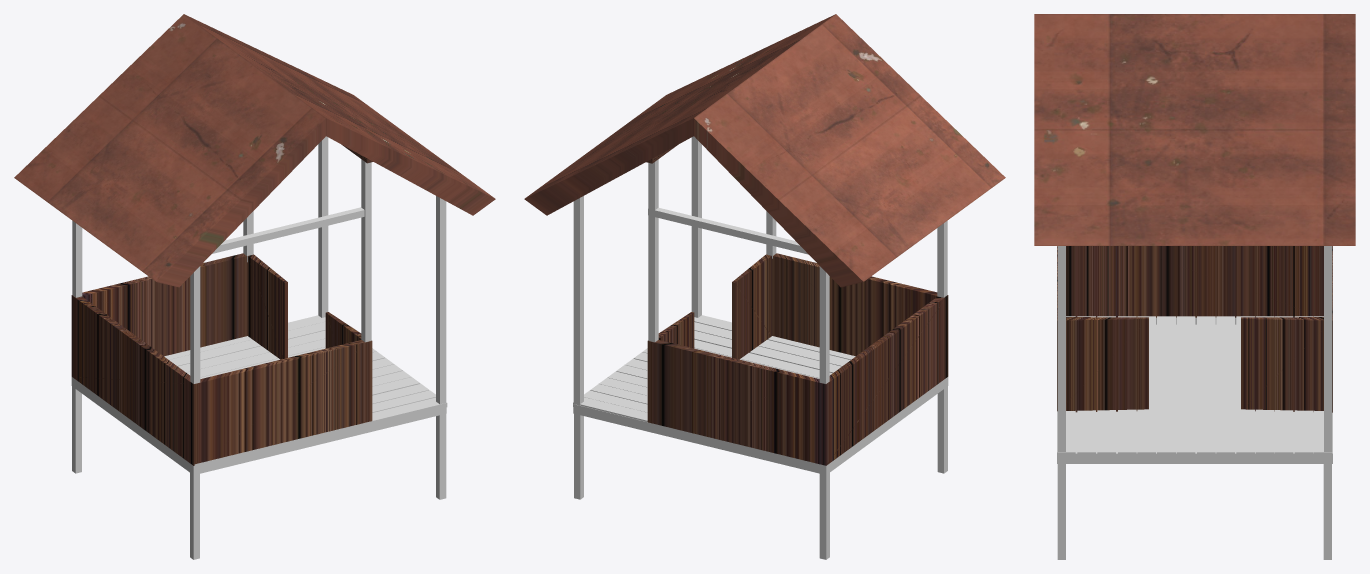
The model's file is PosFix.fbx.
3 views of the same model, side by side, from view 1: azimuth 30°, elevation 25°; view 2: azimuth 150°, elevation 25°; view 3: azimuth 270°, elevation 25° (orthographic). The views are drawn at different scales.
Visible parts, largest first — view 1: Cube.011, Cube.005, Cube, Cube.016, Cube.009, Cube.015, Cube.031, Cube.012, Cube.008, Cube.018, Cube.020, Cube.019 (+6 smaller); view 2: Cube.011, Cube.005, Cube, Cube.015, Cube.006, Cube.016, Cube.010, Cube.007, Cube.028, Cube.029, Cube.027, Cube.004 (+5 smaller); view 3: Cube.011, Cube.005, Cube, Cube.024, Cube.022, Cube.023, Cube.025, Cube.015, Cube.016, Cube.026, Cube.021, Cube.020 (+9 smaller).
Boxes of the visible parts, x1=… form: Cube.011: x1=14, y1=14, x2=495, y2=287; Cube.005: x1=71, y1=253, x2=372, y2=465; Cube: x1=71, y1=377, x2=446, y2=475; Cube.016: x1=436, y1=196, x2=446, y2=404; Cube.009: x1=361, y1=159, x2=371, y2=342; Cube.015: x1=318, y1=136, x2=328, y2=317; Cube.031: x1=194, y1=397, x2=447, y2=468; Cube.012: x1=212, y1=207, x2=364, y2=253; Cube.008: x1=190, y1=266, x2=200, y2=383; Cube.018: x1=169, y1=322, x2=325, y2=366; Cube.020: x1=186, y1=338, x2=325, y2=377; Cube.019: x1=178, y1=330, x2=325, y2=372; Cube.011: x1=524, y1=14, x2=1005, y2=287; Cube.005: x1=647, y1=253, x2=948, y2=465; Cube: x1=573, y1=377, x2=948, y2=474; Cube.015: x1=573, y1=196, x2=583, y2=405; Cube.006: x1=648, y1=159, x2=658, y2=342; Cube.016: x1=691, y1=136, x2=701, y2=317; Cube.010: x1=648, y1=207, x2=808, y2=254; Cube.007: x1=819, y1=266, x2=829, y2=383; Cube.028: x1=694, y1=330, x2=841, y2=373; Cube.029: x1=694, y1=322, x2=850, y2=366; Cube.027: x1=694, y1=339, x2=832, y2=378; Cube.004: x1=819, y1=473, x2=829, y2=559; Cube.011: x1=1034, y1=14, x2=1355, y2=245; Cube.005: x1=1057, y1=246, x2=1332, y2=412; Cube: x1=1057, y1=317, x2=1332, y2=463; Cube.024: x1=1176, y1=316, x2=1195, y2=457; Cube.022: x1=1216, y1=316, x2=1234, y2=457; Cube.023: x1=1197, y1=316, x2=1215, y2=457; Cube.025: x1=1157, y1=316, x2=1175, y2=457; Cube.015: x1=1324, y1=246, x2=1332, y2=451; Cube.016: x1=1057, y1=246, x2=1065, y2=451; Cube.026: x1=1137, y1=316, x2=1155, y2=457; Cube.021: x1=1236, y1=316, x2=1254, y2=457; Cube.020: x1=1255, y1=316, x2=1274, y2=457.
Bounding box in the file's own units: 871 × 1029 × 632.
Materials: 4 (2 with a texture image).
